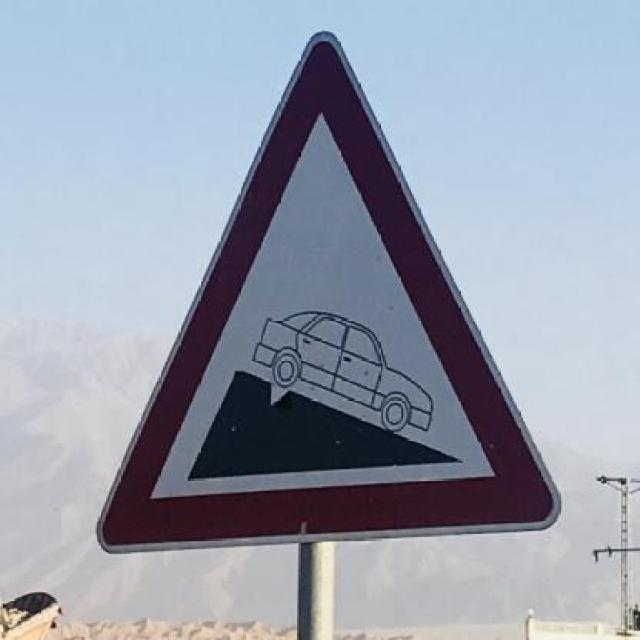steep descent: (98, 40, 559, 549)
